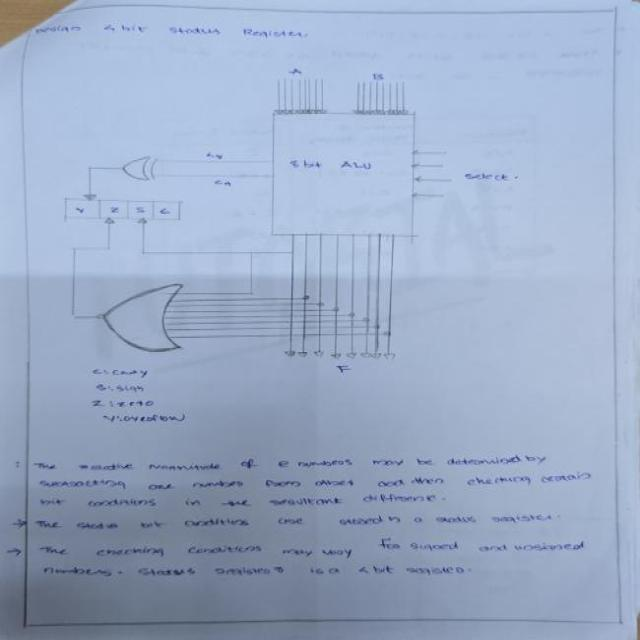Figure Detection - v3 Dataset Version2: (41, 52, 542, 433)
